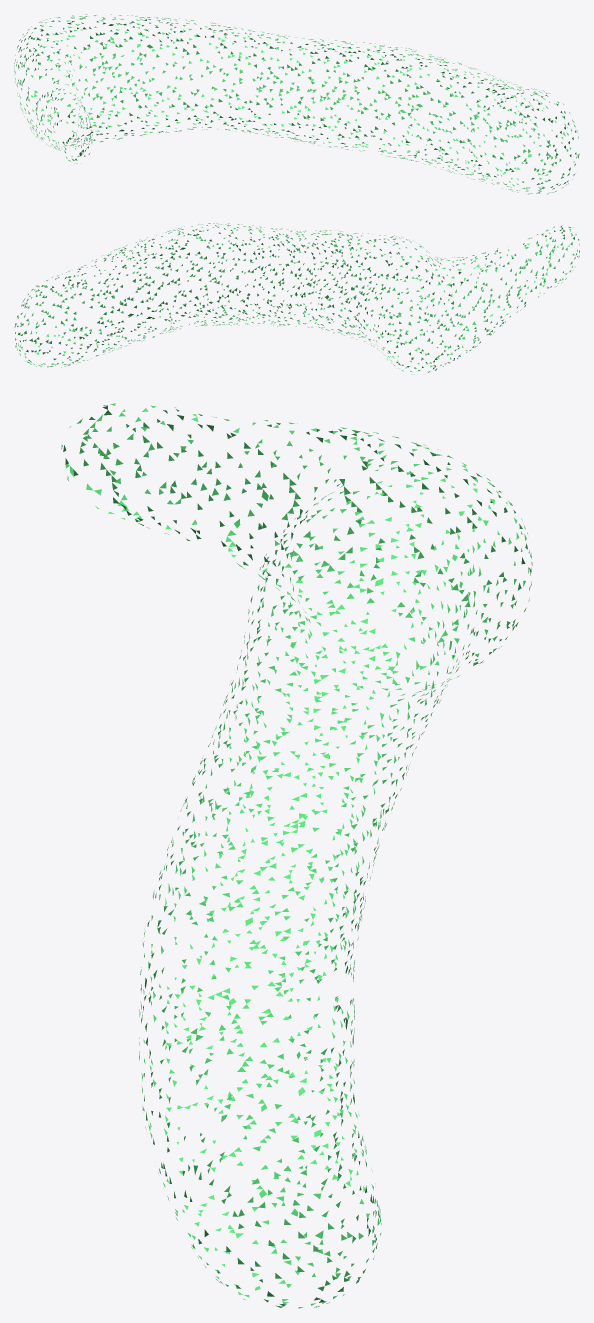
File: morph_020.glb
3 renders of one model, top to bottom at view 1: azimuth 30°, elevation 25°; view 2: azimuth 150°, elevation 25°; view 3: azimuth 270°, elevation 25°, orthographic. The views are drawn at different scales.
Size of the model in its own units: 112 by 48.35 by 45.62.
